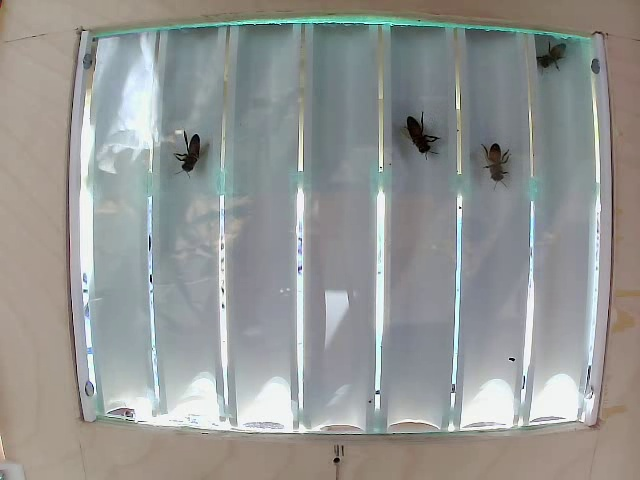bee: (399, 105, 447, 165), (477, 129, 510, 188), (538, 30, 582, 66), (168, 140, 202, 176)
